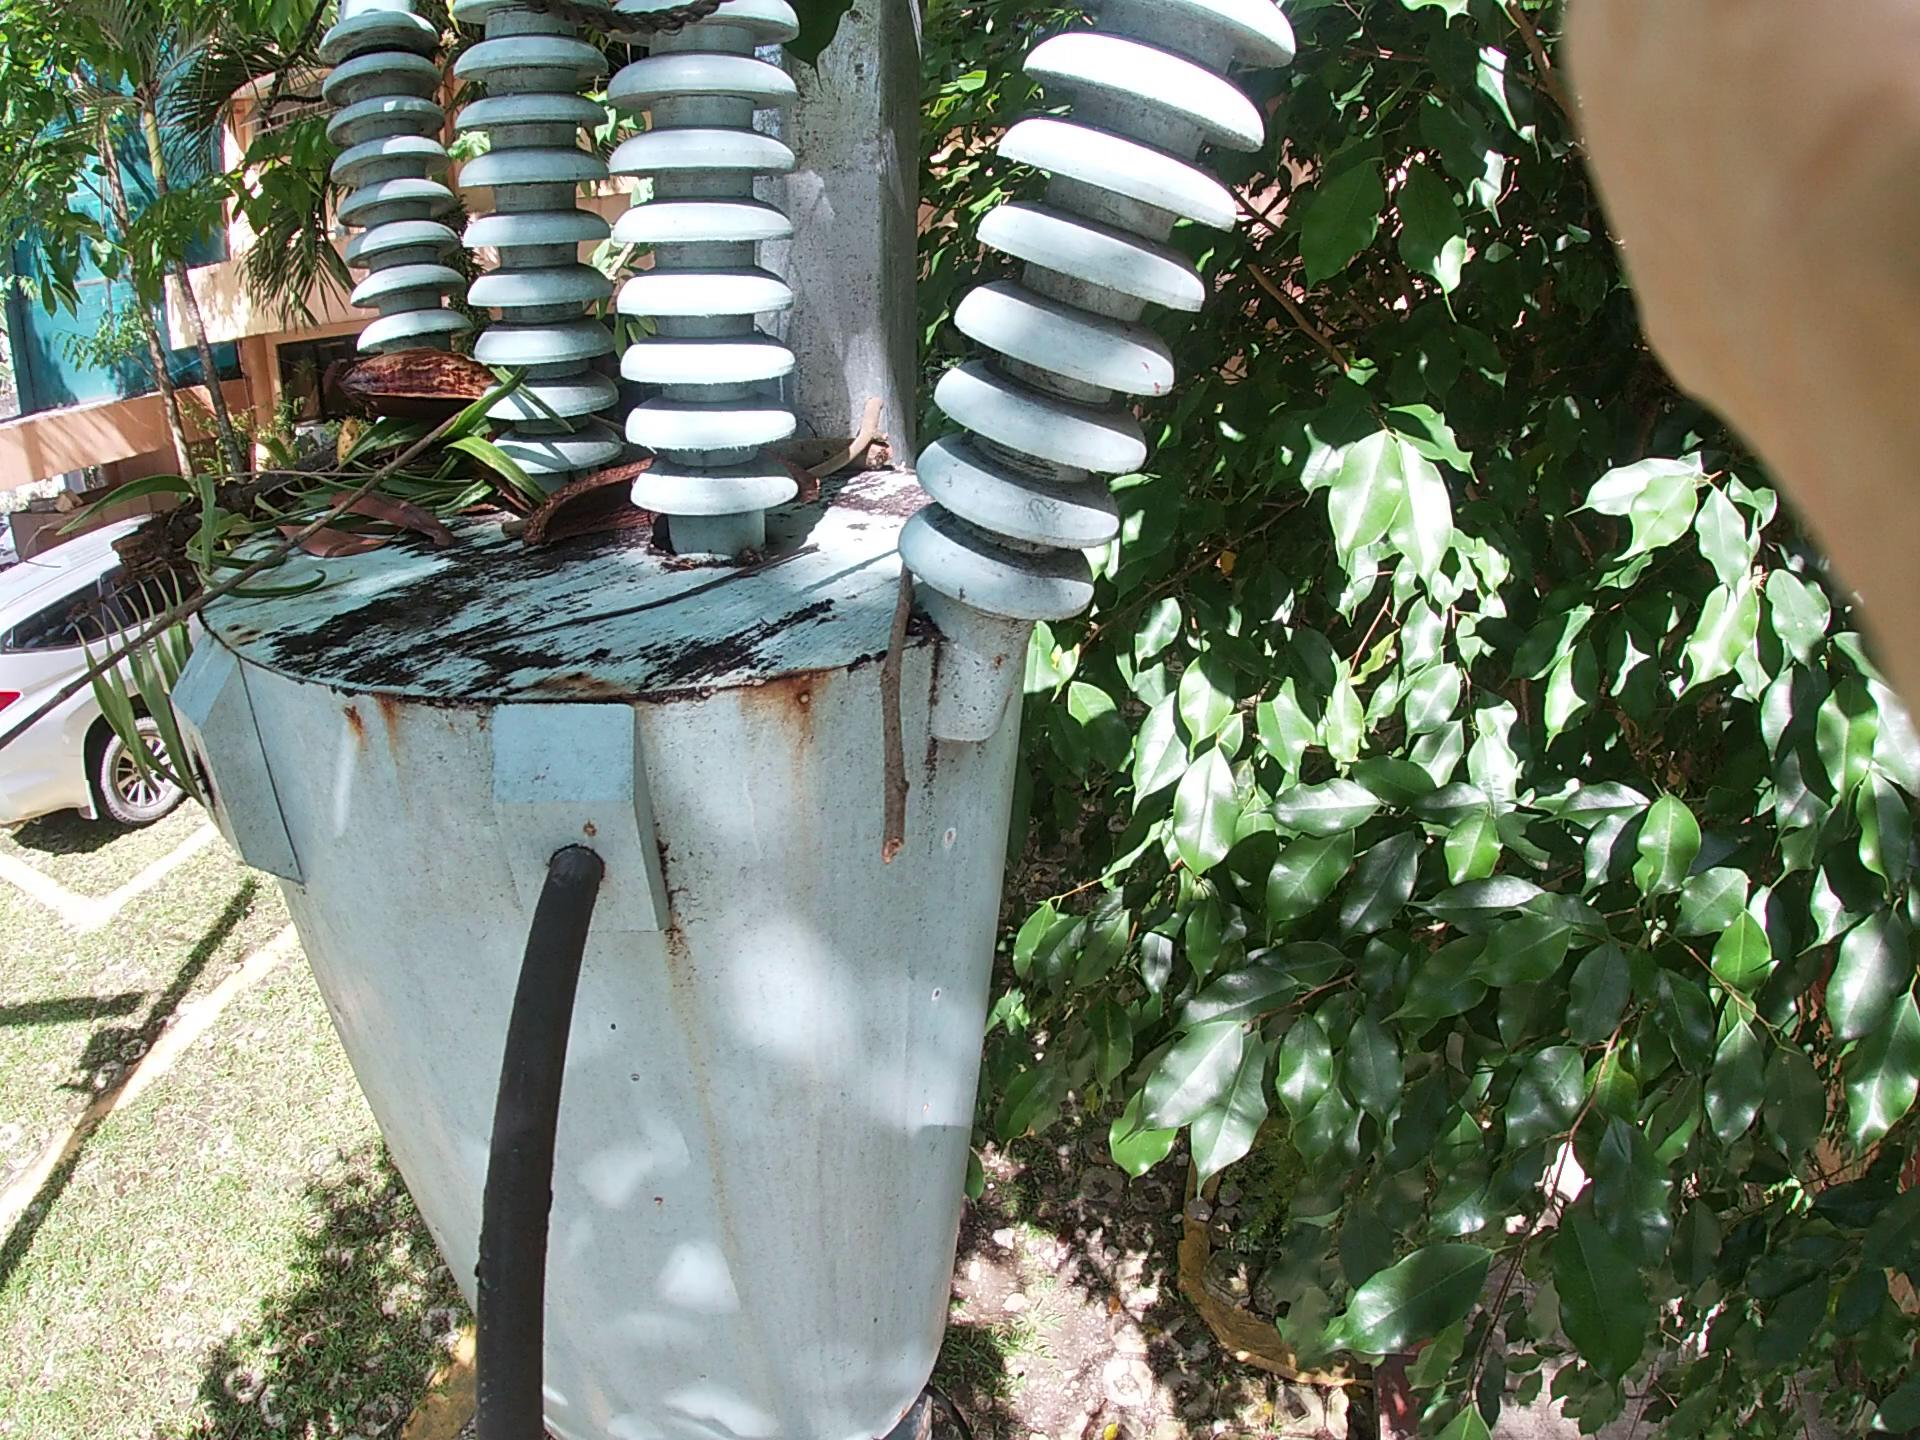branch with leaves: (39, 313, 770, 811)
leaf: (283, 475, 522, 601)
tree branch: (11, 337, 543, 740), (830, 489, 983, 936), (754, 377, 910, 502)
